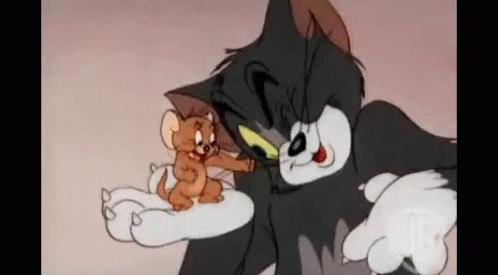jerry: (156, 108, 256, 212)
